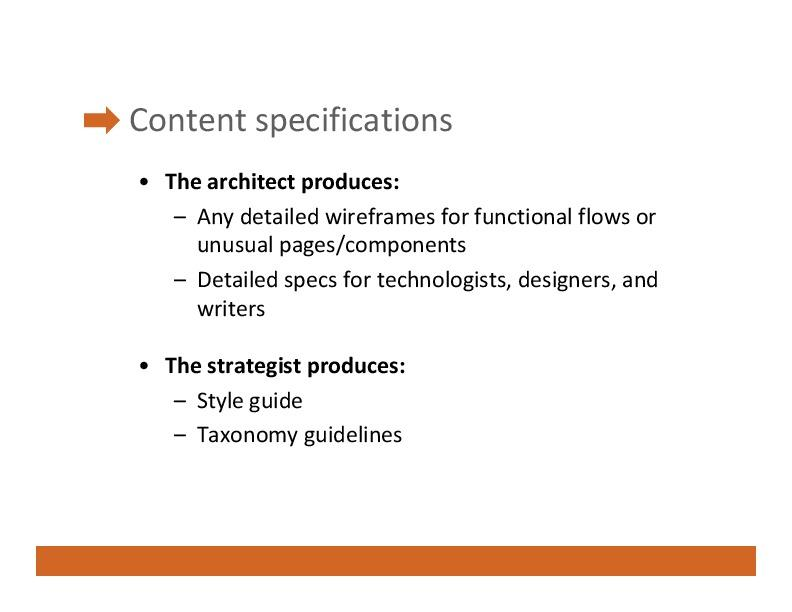paragraph: (172, 202, 708, 335), (171, 387, 543, 461)
subtitle: (159, 168, 426, 200), (161, 352, 413, 380)
title: (125, 99, 466, 148)
